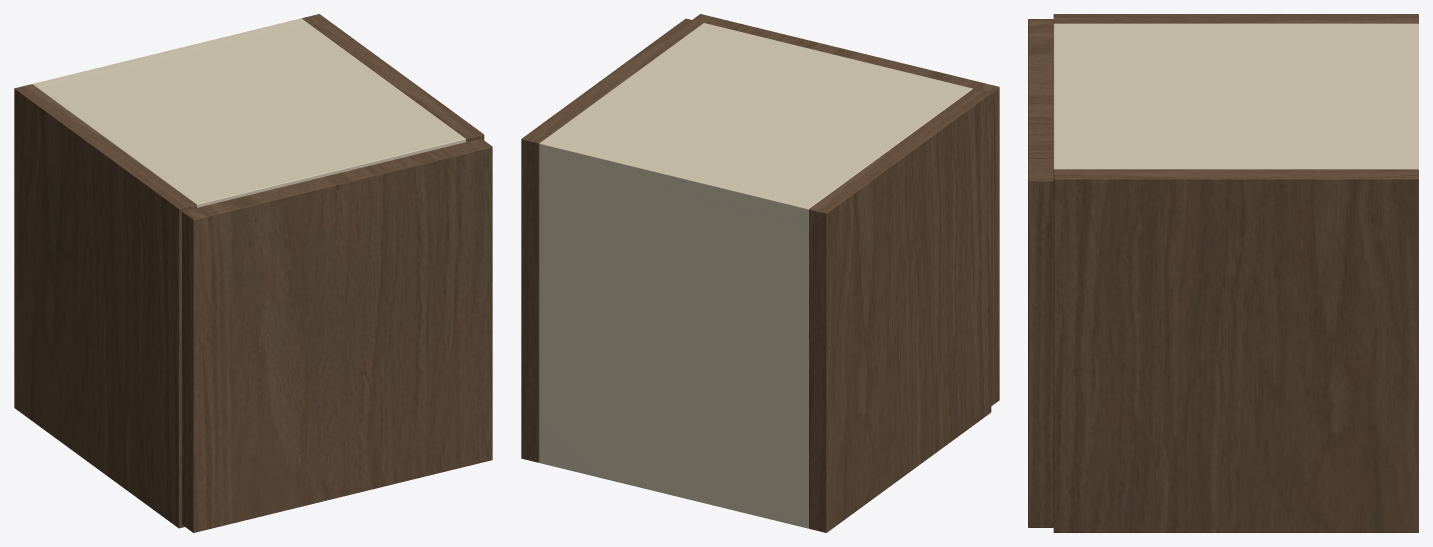
File: oppein-ply-mso-w1212.glb
3 renders of one model, left to right at view 1: azimuth 30°, elevation 25°; view 2: azimuth 150°, elevation 25°; view 3: azimuth 270°, elevation 25°, orthographic. The views are drawn at different scales.
Visible parts, largest first — view 1: Door, Cabinet side, Cabinet top, Cabinet side.001, Cabinet back; view 2: Cabinet back, Cabinet side, Cabinet top, Cabinet side.001, Door; view 3: Cabinet side.001, Cabinet top, Door, Cabinet side, Cabinet back.
Part boxes in pixels (<box>): Door: <box>182,138,492,532</box>; Cabinet side: <box>14,84,196,528</box>; Cabinet top: <box>38,19,466,207</box>; Cabinet side.001: <box>302,14,484,141</box>; Cabinet back: <box>32,18,307,88</box>; Cabinet back: <box>539,138,814,528</box>; Cabinet side: <box>808,88,991,532</box>; Cabinet top: <box>540,23,972,226</box>; Cabinet side.001: <box>521,18,703,462</box>; Door: <box>692,14,999,405</box>; Cabinet side.001: <box>1053,169,1418,532</box>; Cabinet top: <box>1053,23,1418,169</box>; Door: <box>1028,19,1053,527</box>; Cabinet side: <box>1053,14,1418,23</box>; Cabinet back: <box>1404,23,1418,169</box>.
Bounding box in the file's own units: 0.3048 × 0.3048 × 0.3048.
2 materials, 1 textured.
